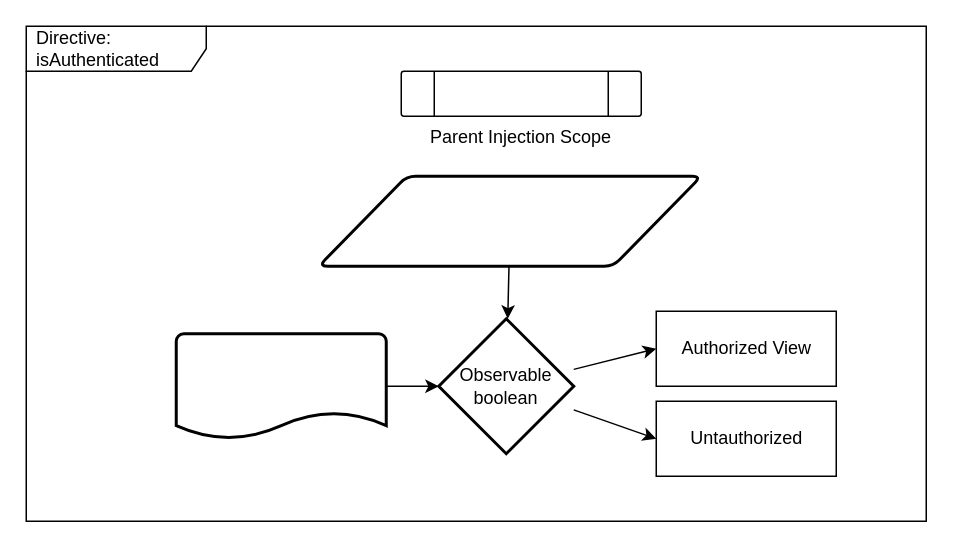
Some shapes in this 953 by 548 pixel diagram are drawn without their labels. Each missing label, with the centre of its shape:
<< Injection Token >> NGXA_IS_AUTHENTICATED: (x=509, y=220)
ViewContainer: (x=280, y=386)
